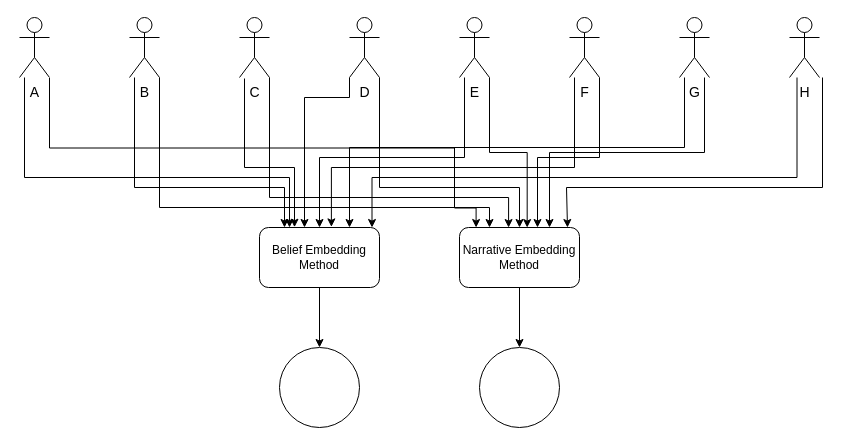
Image size: 848x445. Some labels were removed from this diagram. The shapes that lost their labels are listed below. From the top down, each one's centre as x and y in pixels, then its label:
(x=319, y=387): Belief Embeddings A-H
(x=519, y=387): Narrative Embeddings A-H
